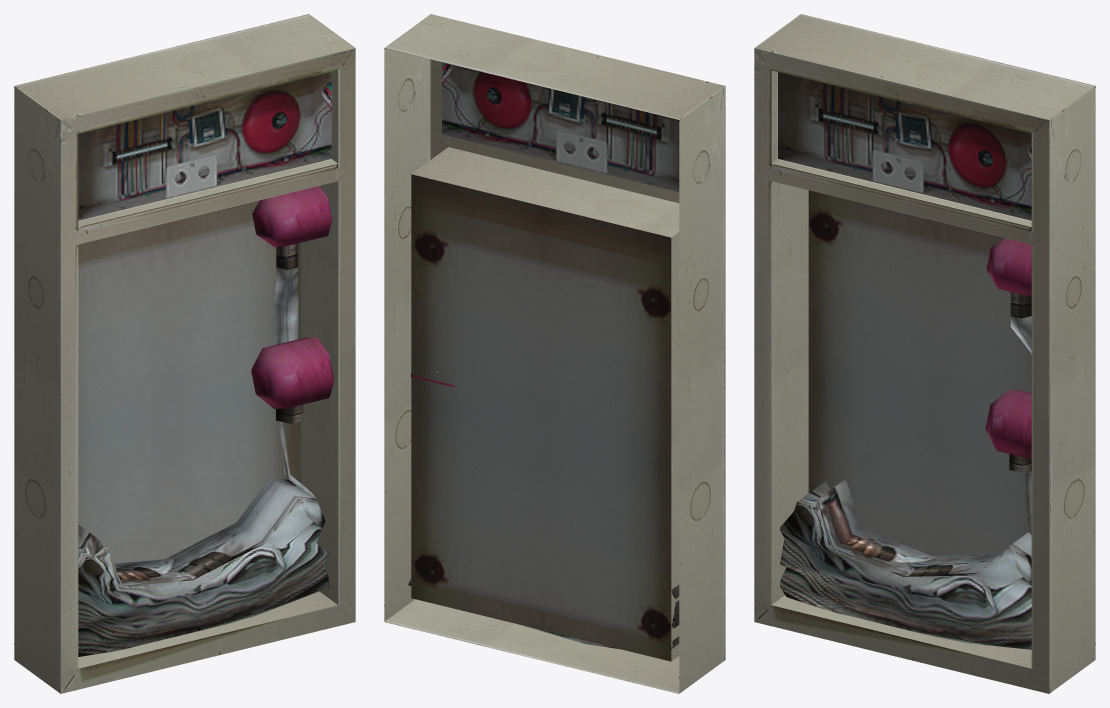
File: alarm_box_open.FBX
The picture shows the model from 3 angles, left to right: view 1: azimuth 30°, elevation 25°; view 2: azimuth 150°, elevation 25°; view 3: azimuth 330°, elevation 25°; orthographic projection.
Visible parts, largest first — view 1: base_LOD0; view 2: base_LOD0; view 3: base_LOD0.
Boxes of the visible parts, x1,y1,x2,y2 form: base_LOD0: [14, 14, 355, 693]; base_LOD0: [384, 14, 725, 693]; base_LOD0: [754, 14, 1095, 693].
Size of what is drawn, in the model's own units: 23.15 by 43.03 by 6.34.
